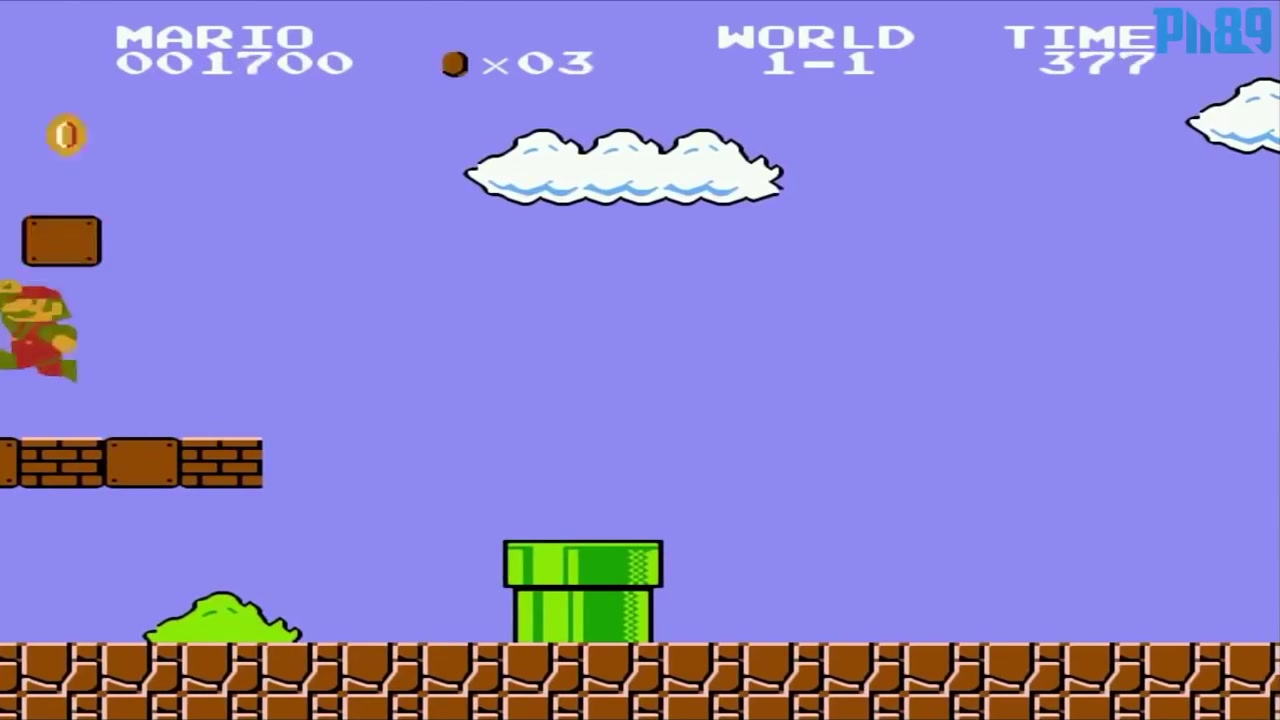mario: (2, 280, 80, 388)
